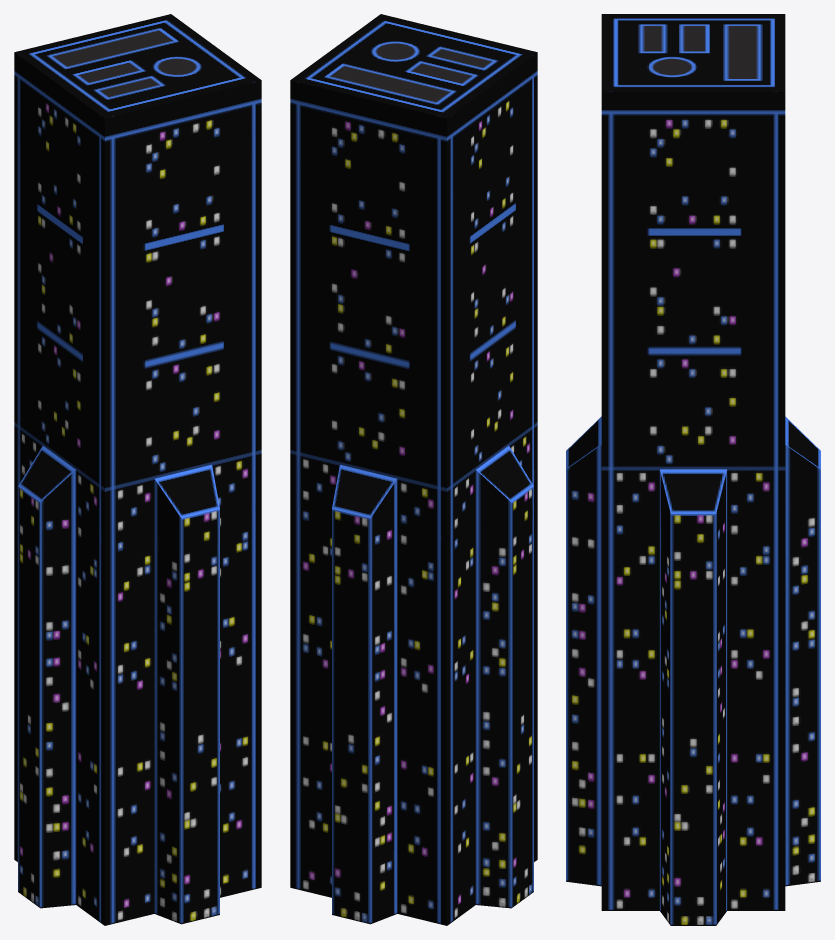
Rendered from bldg_005.fbx.
3 renders of one model, left to right at view 1: azimuth 30°, elevation 25°; view 2: azimuth 150°, elevation 25°; view 3: azimuth 270°, elevation 25°, orthographic.
Visible parts, largest first — view 1: bldg_005; view 2: bldg_005; view 3: bldg_005.
Boxes of the visible parts, x1,y1,x2,y2 form: bldg_005: (14, 14, 261, 925); bldg_005: (290, 14, 537, 925); bldg_005: (566, 14, 820, 925).
Bounding box in the file's own units: 348 × 1235 × 348.
1 material, 1 textured.
